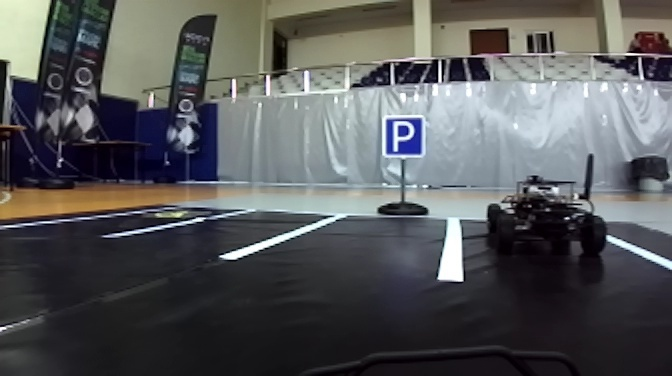park: (379, 115, 428, 159)
